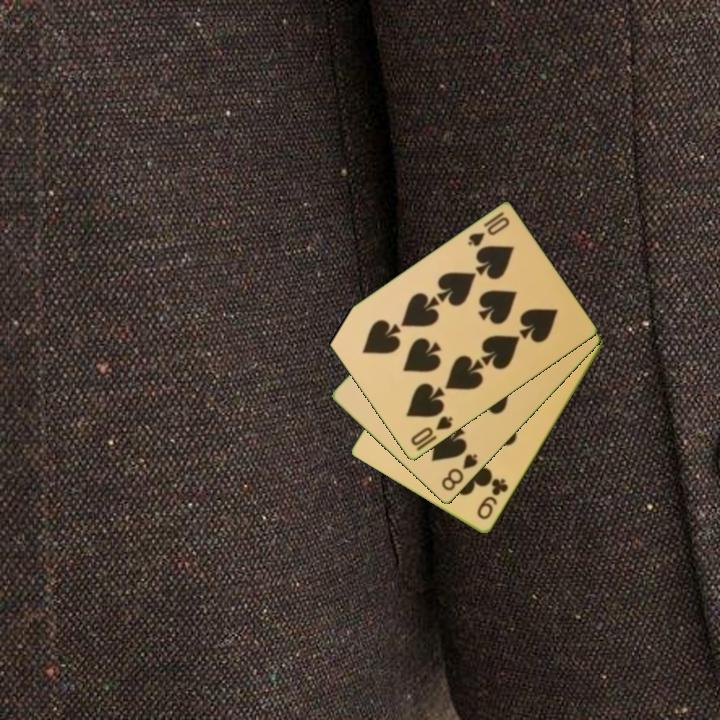10s: (464, 208, 513, 250), (407, 413, 456, 449)
8s: (438, 450, 481, 494)
9c: (473, 475, 512, 523)
